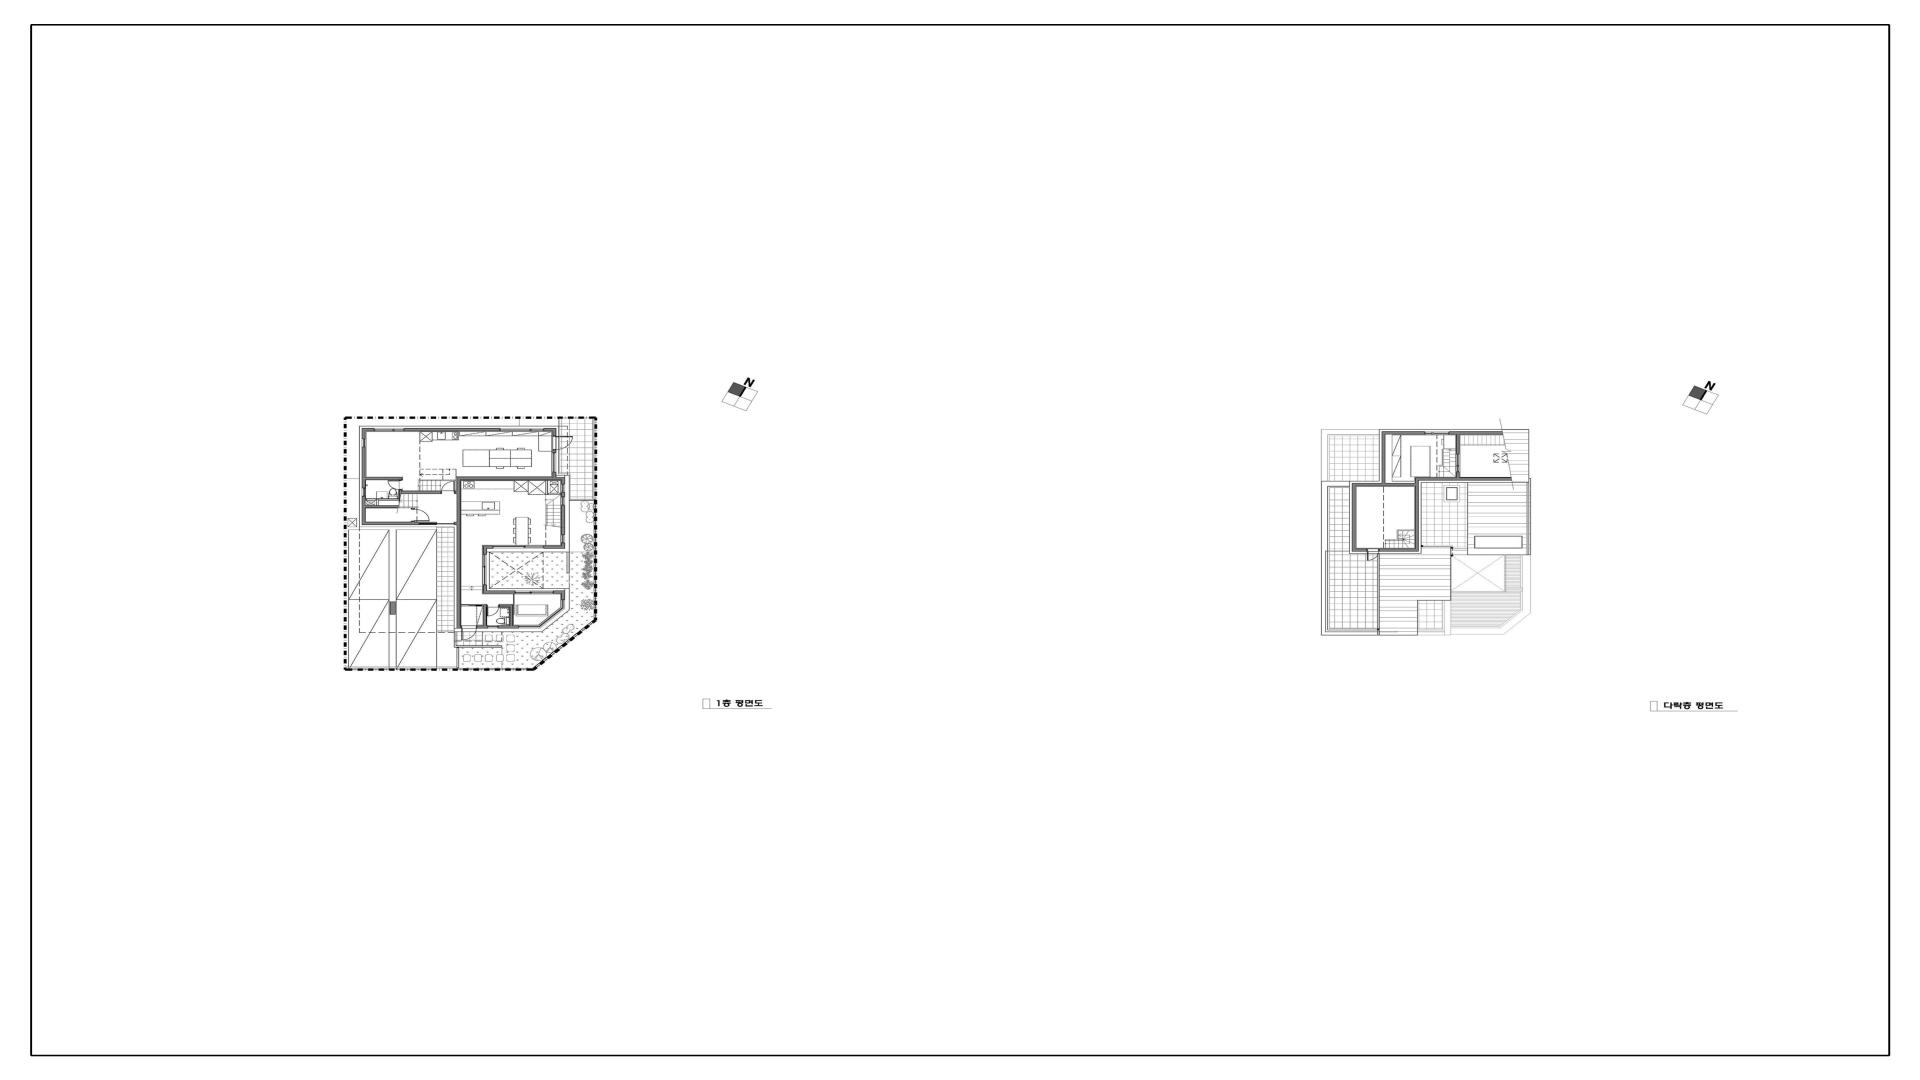door: (553, 435, 574, 450), (462, 625, 477, 641), (411, 508, 430, 521), (442, 481, 455, 493), (1366, 549, 1379, 560), (487, 605, 500, 616), (388, 480, 402, 489), (460, 604, 484, 607), (419, 524, 454, 525), (365, 498, 376, 501)
wall: (454, 522, 460, 628), (361, 521, 436, 525), (1415, 477, 1419, 551), (1352, 484, 1356, 549), (405, 429, 500, 431), (460, 477, 553, 480), (1382, 431, 1386, 484), (456, 477, 460, 522), (1356, 483, 1415, 485), (562, 505, 566, 534), (363, 447, 365, 488), (1386, 431, 1425, 434), (1418, 477, 1457, 480), (361, 497, 365, 522), (365, 477, 402, 480), (1379, 549, 1415, 551), (365, 505, 398, 508), (487, 591, 514, 593), (378, 498, 400, 501), (484, 605, 487, 626), (401, 492, 442, 493), (1457, 434, 1460, 454), (510, 607, 513, 626), (545, 546, 562, 549), (361, 429, 365, 439), (398, 489, 402, 500), (1352, 549, 1366, 551), (554, 591, 566, 593), (483, 546, 487, 554), (553, 472, 556, 480), (545, 429, 556, 431), (1449, 431, 1460, 434), (498, 626, 518, 628), (562, 593, 566, 600), (365, 429, 375, 431), (484, 585, 487, 593), (562, 543, 566, 549), (1457, 472, 1460, 480), (546, 480, 547, 495), (487, 546, 493, 549), (562, 477, 564, 484), (500, 605, 513, 607), (553, 431, 556, 435), (477, 626, 488, 628), (562, 492, 564, 497), (556, 477, 562, 480), (376, 500, 378, 505), (553, 450, 556, 452)
window: (518, 600, 564, 629), (493, 546, 545, 549), (483, 554, 487, 585), (500, 429, 545, 431), (514, 591, 554, 593), (1424, 431, 1449, 435), (373, 429, 405, 431), (553, 452, 556, 472), (1457, 454, 1460, 472), (488, 625, 498, 629), (562, 484, 566, 493), (562, 534, 566, 543), (361, 488, 365, 497), (361, 439, 365, 447), (562, 497, 566, 505)
